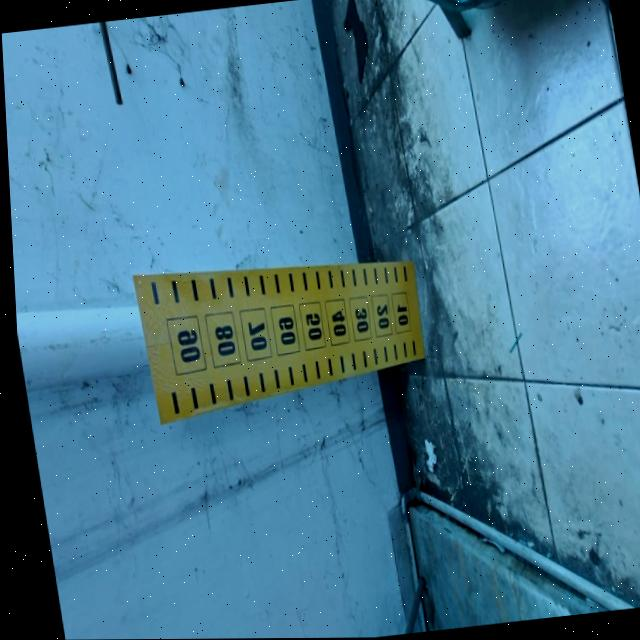water-meter: (114, 215, 453, 441)
